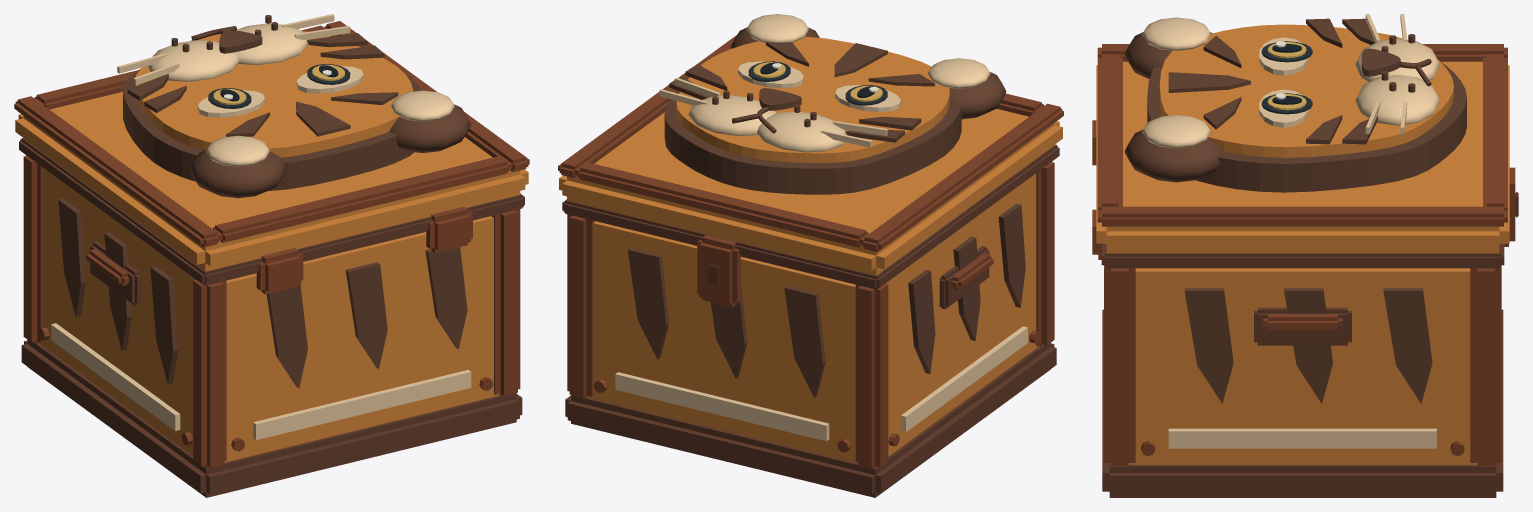
File: crate_tigre.fbx
3 renders of one model, left to right at view 1: azimuth 30°, elevation 25°; view 2: azimuth 150°, elevation 25°; view 3: azimuth 270°, elevation 25°, orthographic. The views are drawn at different scales.
Parts seen in each view (by area): view 1: crate_tigre_caixa; view 2: crate_tigre_caixa; view 3: crate_tigre_caixa.
Part boxes in pixels (bbox=[...]): crate_tigre_caixa: bbox=[14, 14, 529, 497]; crate_tigre_caixa: bbox=[558, 14, 1063, 497]; crate_tigre_caixa: bbox=[1092, 14, 1518, 497].
Bounding box in the file's own units: 2.68 × 2.5 × 2.7.
Materials: 1 (1 with a texture image).
